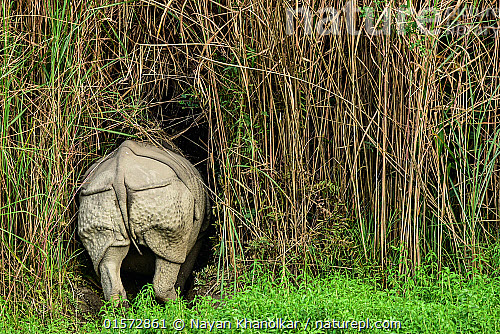rhinoceros: (72, 137, 210, 311)
